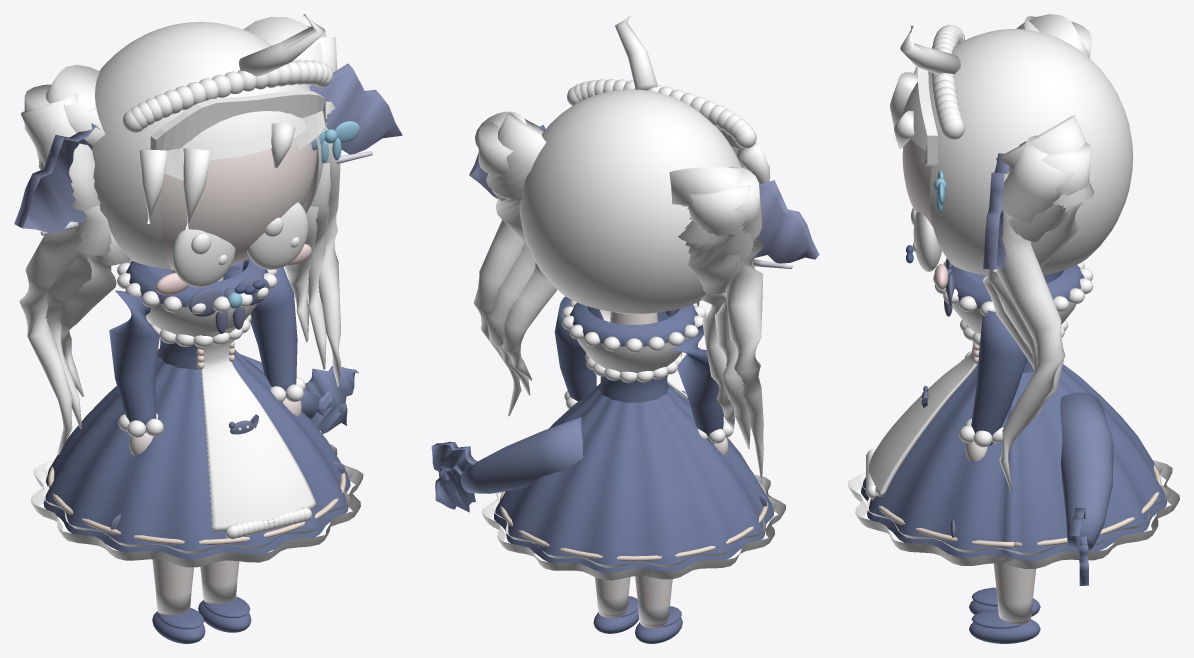
The model's file is whale-chan.glb.
The picture shows the model from 3 angles, left to right: view 1: azimuth 30°, elevation 25°; view 2: azimuth 150°, elevation 25°; view 3: azimuth 270°, elevation 25°; orthographic projection. The views are drawn at different scales.
Visible parts, largest first — view 1: WhaleChan_Skirt, WhaleChan_HairSides, WhaleChan_HairCap, WhaleChan_Apron, WhaleChan_Head, WhaleChan_Arms, WhaleChan_Bangs, WhaleChan_FinEars, WhaleChan_Eyes, WhaleChan_Headband, WhaleChan_SkirtTrim, WhaleChan_BustierFrill (+11 smaller); view 2: WhaleChan_HairCap, WhaleChan_Skirt, WhaleChan_HairSides, WhaleChan_Tail, WhaleChan_Arms, WhaleChan_FinEars, WhaleChan_SkirtTrim, WhaleChan_Torso, WhaleChan_BustierFrill, WhaleChan_Headband, WhaleChan_Bustier, WhaleChan_Socks (+6 smaller); view 3: WhaleChan_HairCap, WhaleChan_Skirt, WhaleChan_HairSides, WhaleChan_Tail, WhaleChan_Arms, WhaleChan_SkirtTrim, WhaleChan_Apron, WhaleChan_Headband, WhaleChan_Bangs, WhaleChan_Shoes, WhaleChan_FinEars, WhaleChan_Torso (+8 smaller).
Boxes of the visible parts, x1=… form: WhaleChan_Skirt: x1=43, y1=348, x2=350, y2=559; WhaleChan_HairSides: x1=19, y1=16, x2=341, y2=454; WhaleChan_HairCap: x1=92, y1=22, x2=323, y2=269; WhaleChan_Apron: x1=201, y1=326, x2=317, y2=531; WhaleChan_Head: x1=160, y1=138, x2=317, y2=270; WhaleChan_Arms: x1=109, y1=267, x2=305, y2=455; WhaleChan_Bangs: x1=139, y1=90, x2=325, y2=229; WhaleChan_FinEars: x1=14, y1=63, x2=402, y2=235; WhaleChan_Eyes: x1=156, y1=202, x2=311, y2=294; WhaleChan_Headband: x1=123, y1=60, x2=359, y2=163; WhaleChan_SkirtTrim: x1=31, y1=444, x2=363, y2=567; WhaleChan_BustierFrill: x1=117, y1=260, x2=277, y2=347; WhaleChan_HairCap: x1=519, y1=89, x2=740, y2=313; WhaleChan_Skirt: x1=494, y1=383, x2=773, y2=572; WhaleChan_HairSides: x1=473, y1=111, x2=763, y2=477; WhaleChan_Tail: x1=431, y1=417, x2=583, y2=512; WhaleChan_Arms: x1=554, y1=296, x2=733, y2=455; WhaleChan_FinEars: x1=469, y1=125, x2=819, y2=268; WhaleChan_SkirtTrim: x1=482, y1=474, x2=785, y2=580; WhaleChan_Torso: x1=570, y1=302, x2=697, y2=389; WhaleChan_BustierFrill: x1=561, y1=300, x2=706, y2=382; WhaleChan_Headband: x1=567, y1=79, x2=756, y2=148; WhaleChan_Bustier: x1=577, y1=309, x2=685, y2=372; WhaleChan_Socks: x1=595, y1=576, x2=672, y2=624; WhaleChan_HairCap: x1=901, y1=29, x2=1133, y2=275; WhaleChan_Skirt: x1=861, y1=364, x2=1166, y2=560; WhaleChan_HairSides: x1=982, y1=14, x2=1094, y2=490; WhaleChan_Tail: x1=1060, y1=392, x2=1113, y2=585; WhaleChan_Arms: x1=959, y1=310, x2=1027, y2=461; WhaleChan_SkirtTrim: x1=848, y1=460, x2=1179, y2=568; WhaleChan_Apron: x1=868, y1=322, x2=977, y2=497; WhaleChan_Headband: x1=931, y1=24, x2=964, y2=213; WhaleChan_Bangs: x1=890, y1=66, x2=937, y2=165; WhaleChan_Shoes: x1=969, y1=587, x2=1040, y2=643; WhaleChan_FinEars: x1=983, y1=153, x2=1009, y2=273; WhaleChan_Torso: x1=949, y1=265, x2=1084, y2=308.
Size of the model in its own units: 1.81 by 2.87 by 1.37.
